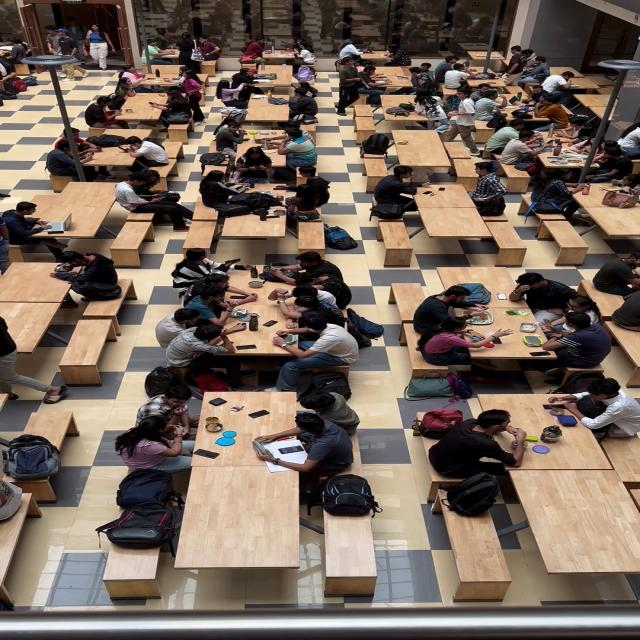Occupied: (390, 272, 622, 386), (188, 281, 333, 358), (476, 395, 617, 465), (190, 394, 301, 466), (448, 306, 580, 362), (254, 412, 356, 482), (426, 410, 525, 480), (269, 319, 359, 390), (553, 380, 640, 438), (115, 418, 198, 476), (24, 184, 121, 232), (270, 388, 359, 437), (77, 136, 176, 179), (538, 312, 613, 368), (113, 177, 194, 228), (164, 324, 242, 371), (412, 286, 485, 336), (134, 388, 202, 439), (508, 272, 578, 319), (531, 169, 592, 222), (0, 302, 64, 350), (184, 284, 252, 327), (372, 164, 430, 214), (171, 256, 255, 289), (0, 264, 74, 300), (538, 296, 602, 335), (199, 171, 256, 214), (446, 91, 484, 155), (267, 255, 346, 285), (499, 128, 552, 172), (155, 304, 208, 347), (264, 130, 318, 171), (269, 284, 339, 315), (1, 202, 63, 237), (46, 144, 103, 182), (336, 64, 376, 117), (416, 93, 453, 147), (495, 95, 568, 122), (112, 96, 168, 131), (580, 280, 626, 322), (52, 252, 118, 281), (583, 144, 633, 182), (467, 162, 507, 208), (150, 89, 193, 131), (595, 258, 640, 297), (277, 165, 327, 199), (484, 120, 528, 158), (121, 135, 170, 169), (177, 72, 207, 126), (246, 94, 295, 127), (413, 190, 480, 213), (84, 98, 128, 132), (235, 146, 276, 181), (213, 121, 250, 156), (284, 88, 319, 125), (216, 79, 250, 117), (2, 38, 35, 76), (540, 70, 574, 106), (54, 128, 98, 155), (518, 57, 551, 93), (356, 69, 400, 92), (550, 118, 592, 142), (449, 75, 506, 91), (230, 68, 260, 96), (562, 133, 600, 155), (564, 76, 613, 92), (138, 78, 186, 94), (145, 40, 173, 67), (119, 66, 148, 92), (382, 44, 412, 68), (114, 77, 140, 103), (291, 42, 316, 68), (248, 72, 289, 87), (242, 38, 266, 61), (258, 50, 296, 64), (502, 102, 541, 115), (444, 90, 465, 112), (358, 51, 396, 62)
Unoccupied: (509, 471, 640, 581), (173, 467, 299, 574), (440, 498, 514, 601), (321, 508, 377, 597), (101, 533, 166, 601), (59, 324, 114, 376), (438, 268, 520, 300), (594, 431, 640, 486), (78, 282, 129, 330), (220, 206, 287, 238), (21, 411, 77, 447), (519, 196, 573, 232), (420, 210, 488, 237), (536, 222, 592, 254), (482, 221, 530, 257), (390, 282, 428, 322), (376, 224, 415, 261), (537, 149, 605, 170), (449, 155, 486, 192), (181, 218, 219, 254), (109, 225, 153, 256), (395, 146, 456, 167), (574, 93, 626, 117), (592, 207, 640, 232), (360, 156, 390, 190), (296, 220, 327, 252), (351, 106, 377, 142), (463, 49, 504, 70), (380, 92, 429, 106), (442, 141, 474, 161), (545, 68, 592, 79), (519, 193, 538, 220), (371, 64, 409, 77), (397, 76, 407, 80), (3, 48, 11, 51)
